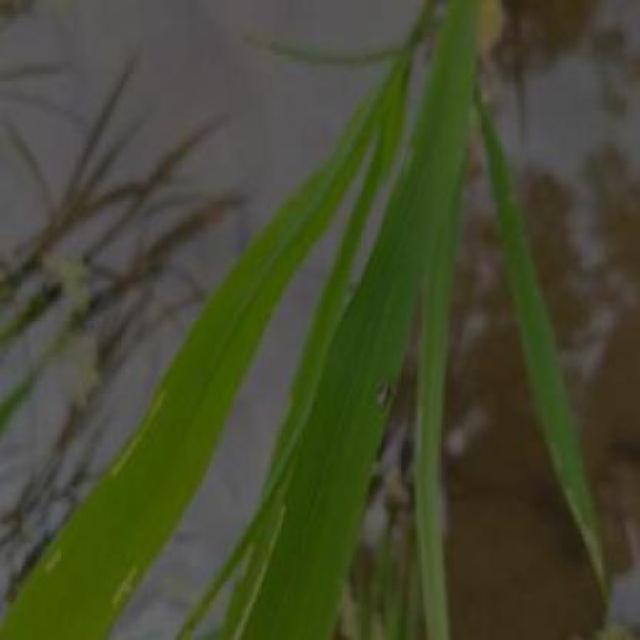rice-bug: (374, 375, 398, 410)
